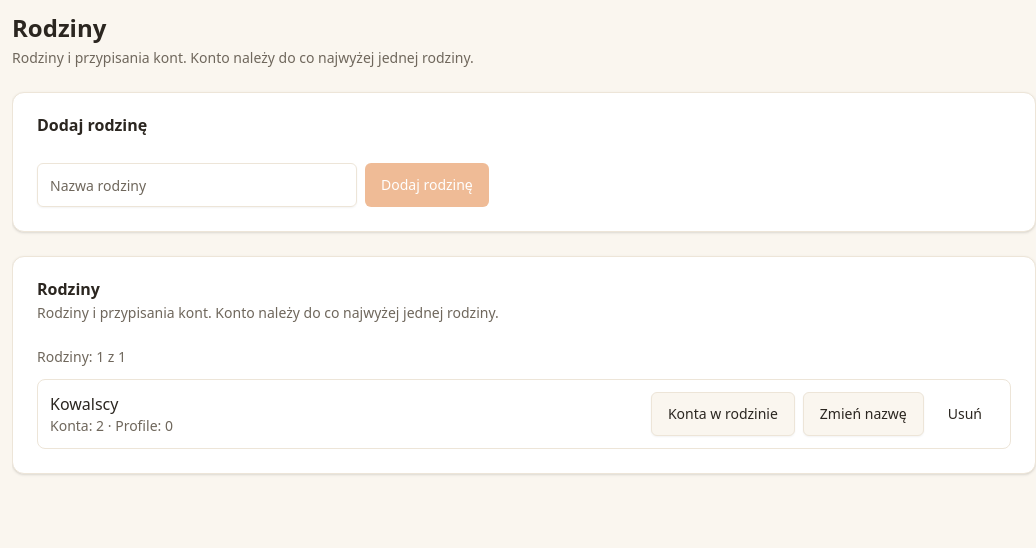
Test: AdminHouseholdsPage › blokada usunięcia pokazuje listę użyć z odpowiedzi serwera
Click the button with test id "household-delete-1" at (965, 414), box left=932, top=392, right=998, bottom=436
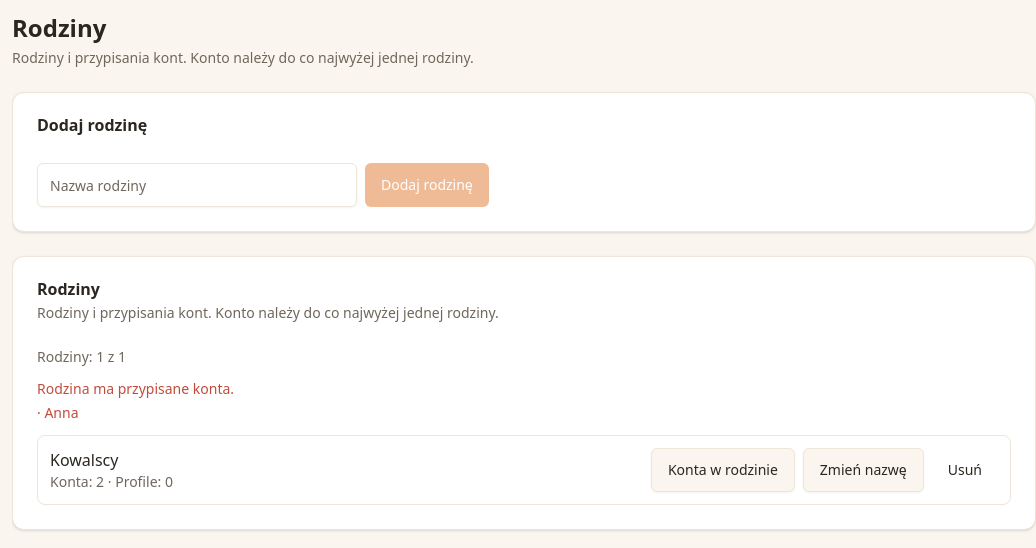
Expected: the message with test id "households-error" shows "Rodzina ma przypisane konta.", left=37, top=379, right=234, bottom=398
Expected: the list with test id "households-used-in" shows "Anna", left=37, top=403, right=78, bottom=422
